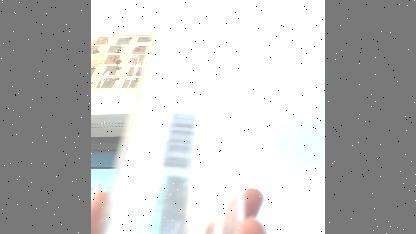Plastic Bottle: (100, 0, 254, 234)
